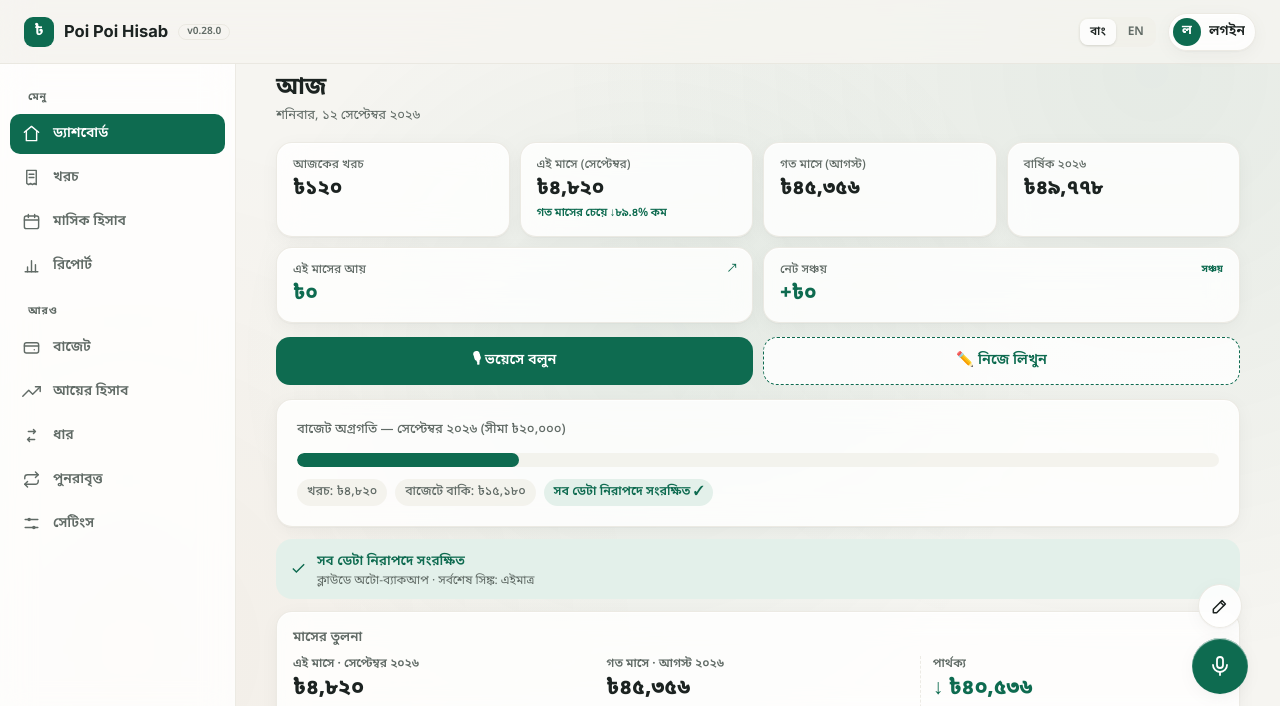
it: AppShell › switches nav labels from Bengali to English via the compact toggle
Expected: the link "ড্যাশবোর্ড" is shown, [10,114,225,154]
Click the button "EN" at (1136, 32), box [1118,18,1154,44]
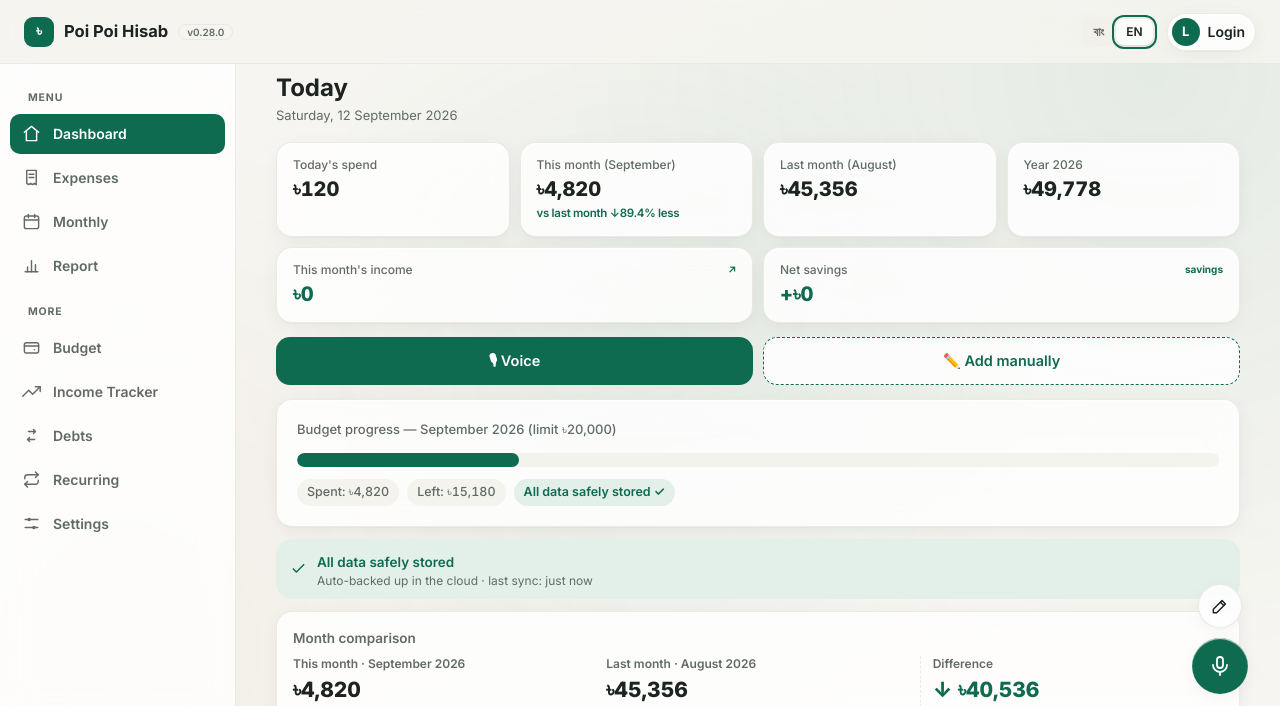
Now the link "Dashboard" is shown, box [10,114,225,154]
Now no links "ড্যাশবোর্ড" are shown
